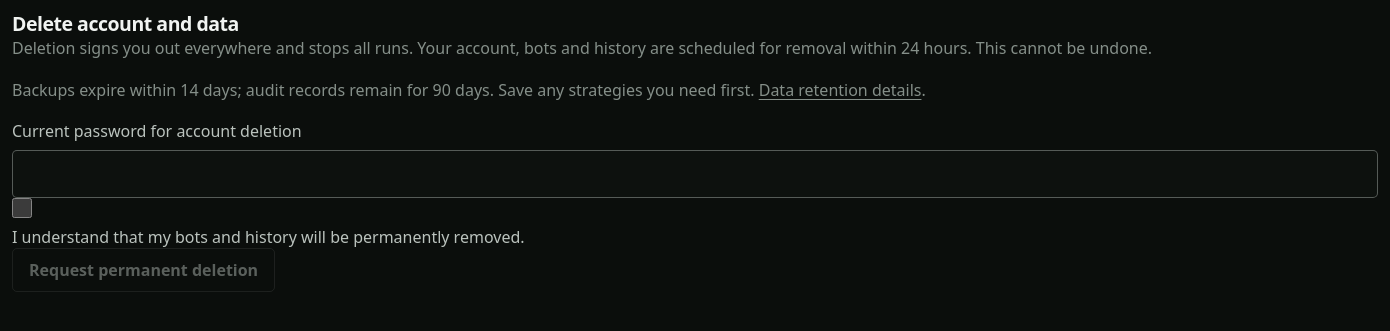
Test: keeps access on password rejection and clears the entered password
Type "deletion fixture password" into the password field labelled "Current password for account deletion". click: (695, 174)
box: [12, 150, 1378, 198]
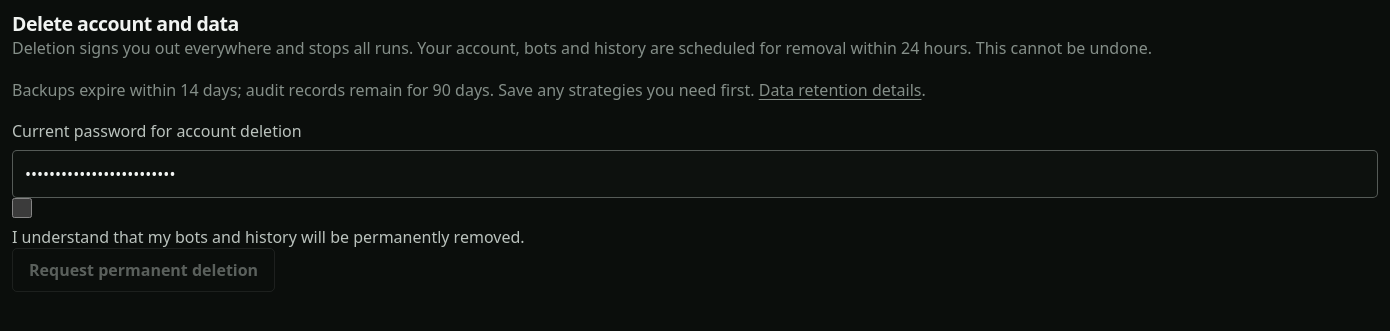
Click the checkbox labelled "I understand that my bots and history will be permanently removed.". click: click(22, 208)
box: [12, 198, 32, 218]
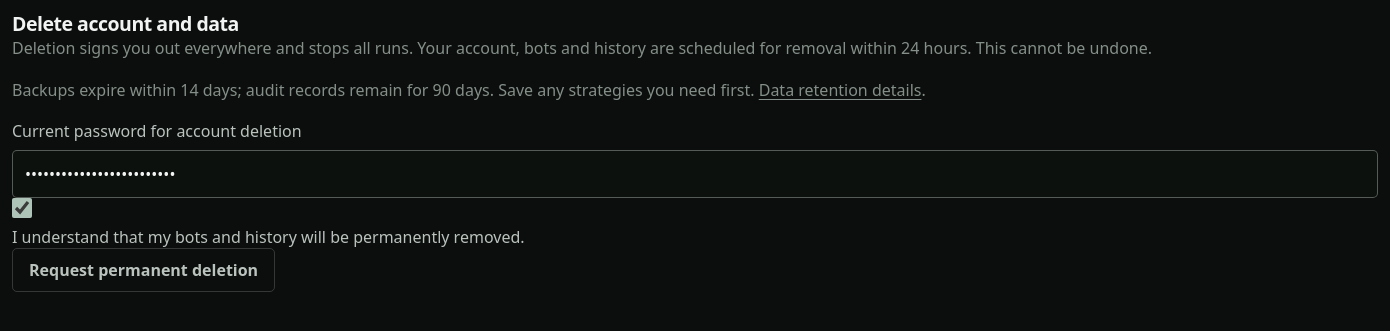
Submit the form named "Request permanent deletion", box [12, 120, 1378, 292]
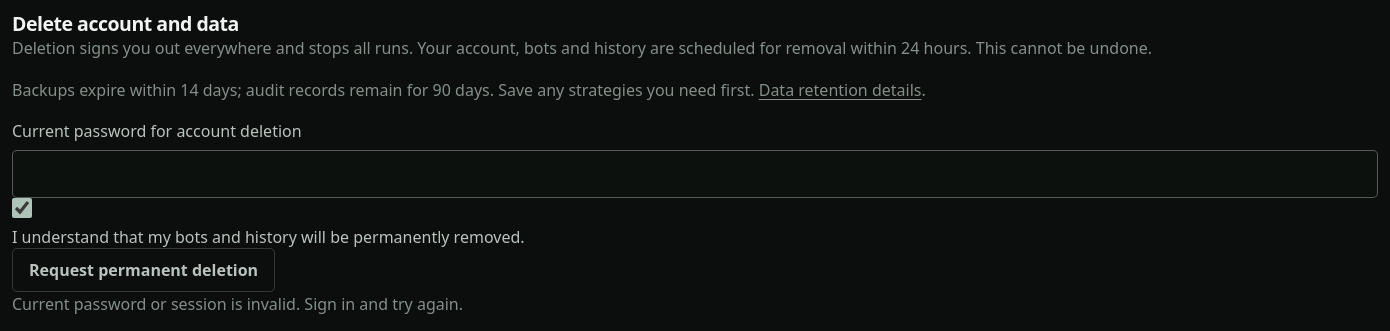
Check: the message reads "Current password or session is invalid. Sign in and try again.", box [12, 293, 463, 315]
Check: the password field labelled "Current password for account deletion" is empty, box [12, 150, 1378, 198]
